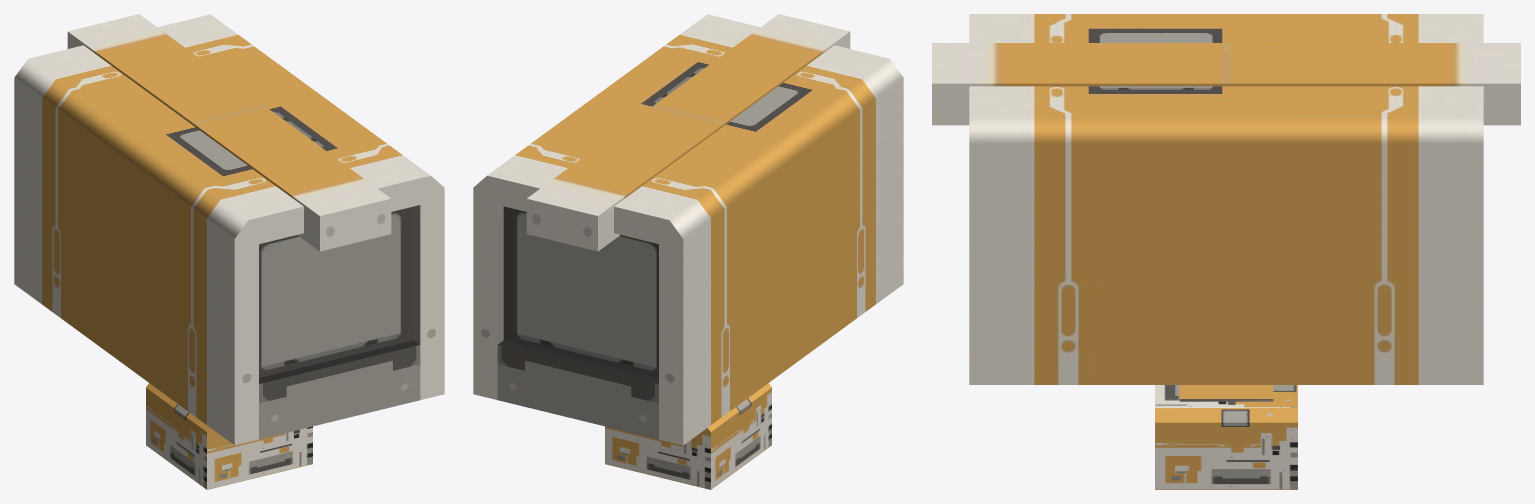
3 renders of one model, left to right at view 1: azimuth 30°, elevation 25°; view 2: azimuth 150°, elevation 25°; view 3: azimuth 270°, elevation 25°, orthographic. The views are drawn at different scales.
Visible parts, largest first — view 1: inserter-1; view 2: inserter-1; view 3: inserter-1.
Part boxes in pixels (x1,y1,x2,y2): inserter-1: (14,14,444,489); inserter-1: (473,14,903,489); inserter-1: (932,14,1520,489).
Size of the model in its own units: 0.99 by 1.53 by 2.06.
2 materials, 2 textured.
